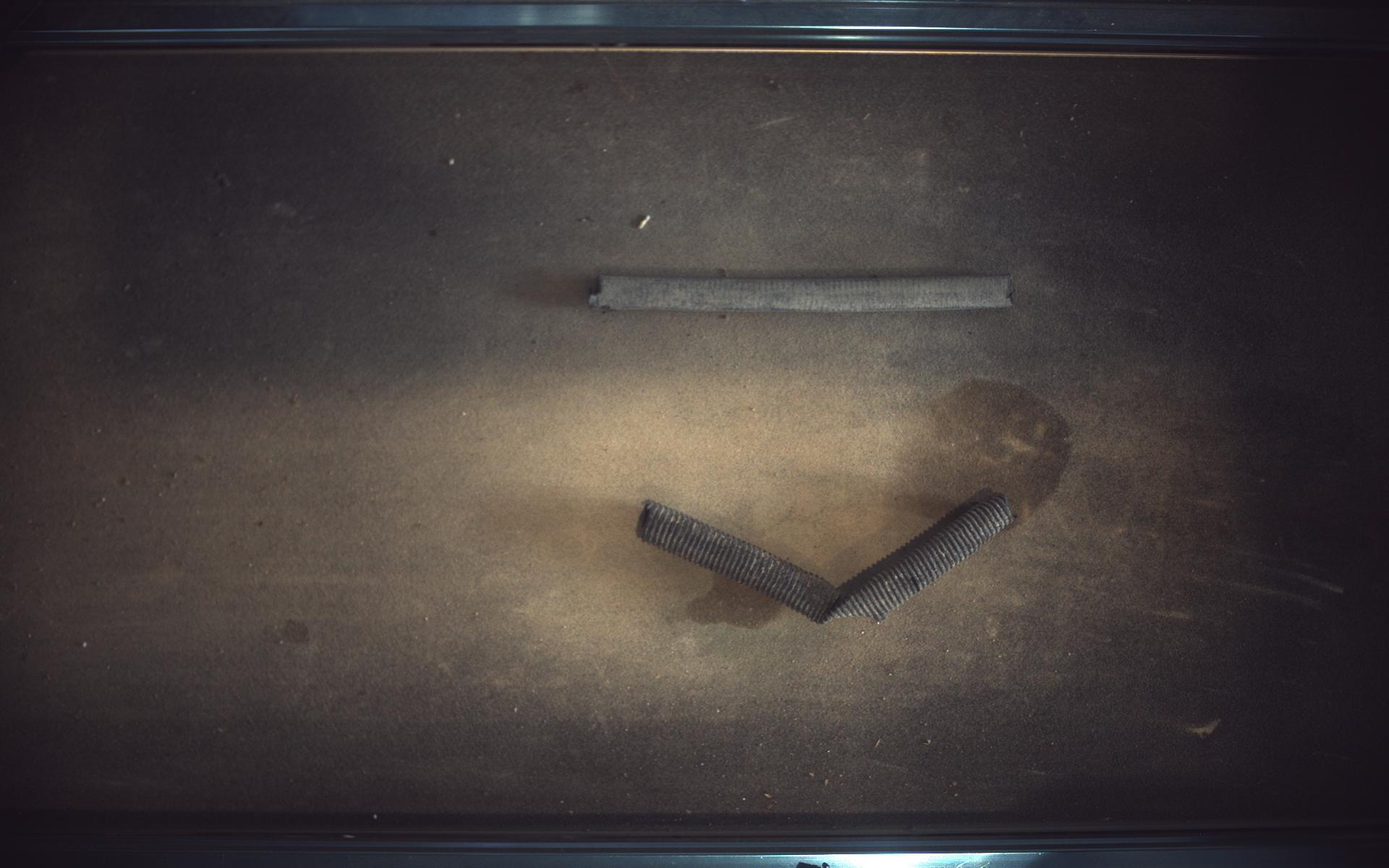pipes: (638, 490, 1016, 624), (590, 273, 1014, 312)
